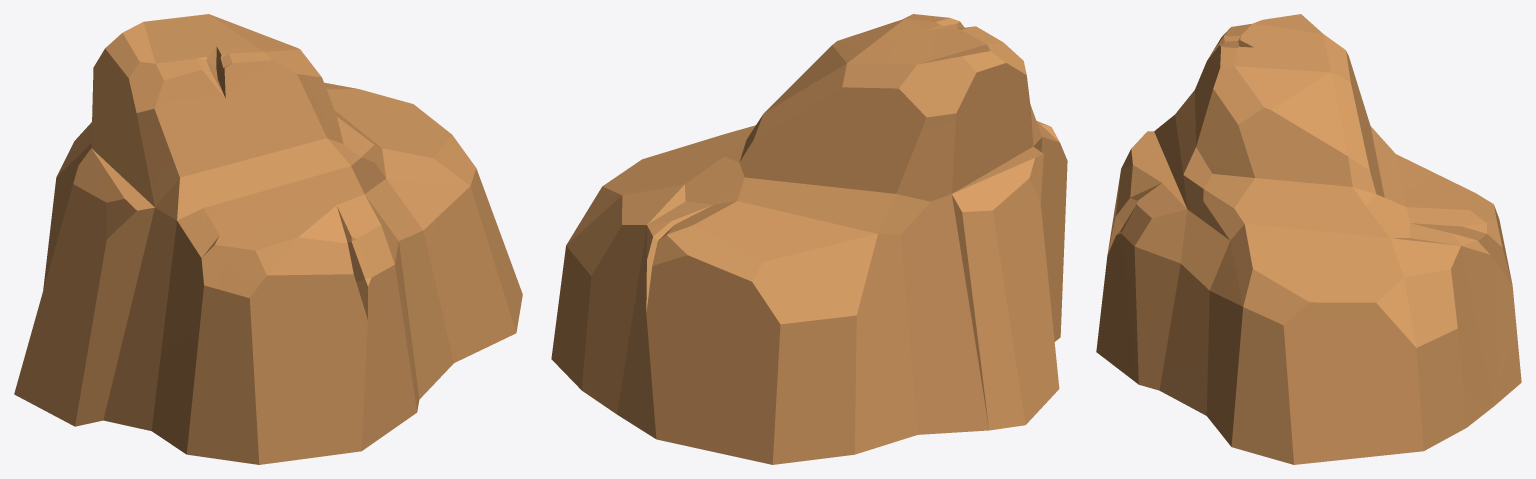
Rendered from Rock_1.fbx.
3 renders of one model, left to right at view 1: azimuth 30°, elevation 25°; view 2: azimuth 150°, elevation 25°; view 3: azimuth 270°, elevation 25°, orthographic. The views are drawn at different scales.
Visible parts, largest first — view 1: SM_RockFormation3; view 2: SM_RockFormation3; view 3: SM_RockFormation3.
Part boxes in pixels (x1,y1,x2,y2): SM_RockFormation3: (14, 14, 522, 464); SM_RockFormation3: (551, 14, 1067, 464); SM_RockFormation3: (1096, 14, 1521, 464).
Size of the model in its own units: 597 by 419 by 553.
1 material, 1 textured.
